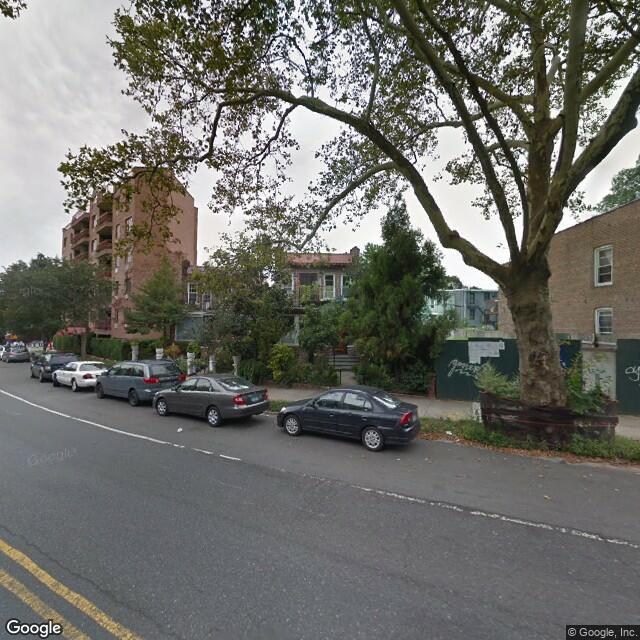litter: (177, 426, 185, 431), (446, 429, 452, 434)
